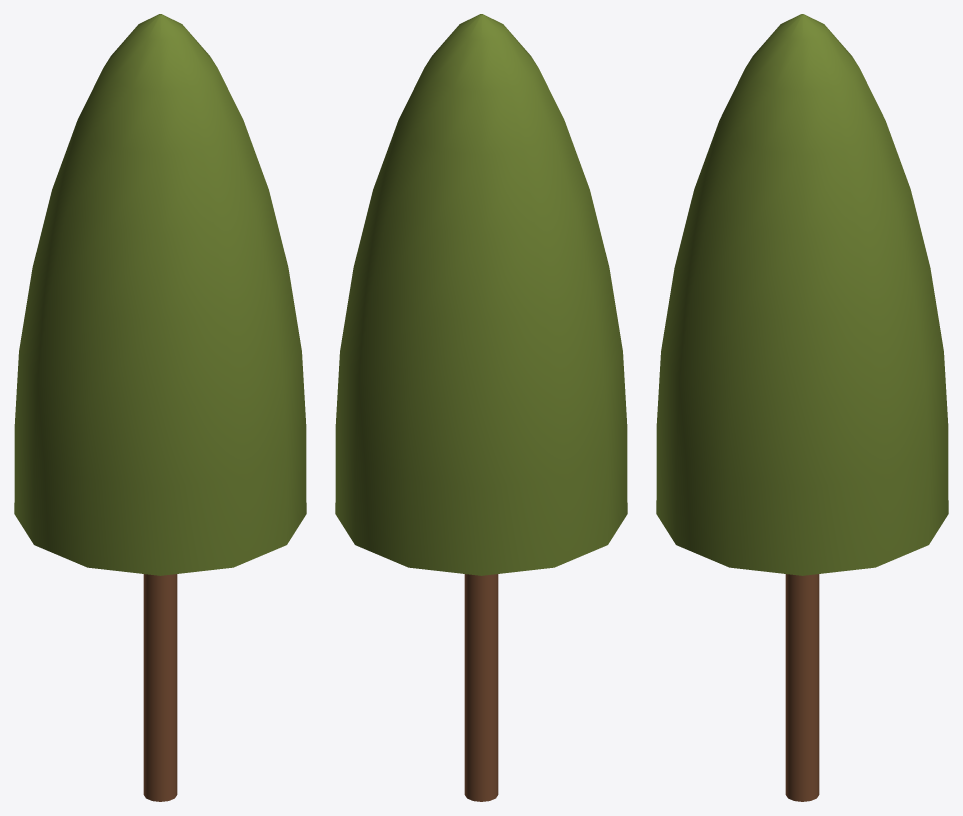
File: Red_Alder_Analytical_0.obj
The picture shows the model from 3 angles, left to right: view 1: azimuth 30°, elevation 25°; view 2: azimuth 150°, elevation 25°; view 3: azimuth 270°, elevation 25°; orthographic projection.
Parts seen in each view (by area): view 1: AnalyticalCrown, AnalyticalTrunk; view 2: AnalyticalCrown, AnalyticalTrunk; view 3: AnalyticalCrown, AnalyticalTrunk.
Part boxes in pixels (x1,y1,x2,y2): AnalyticalCrown: [14, 14, 306, 575]; AnalyticalTrunk: [143, 574, 177, 801]; AnalyticalCrown: [335, 14, 627, 575]; AnalyticalTrunk: [464, 574, 498, 801]; AnalyticalCrown: [656, 14, 948, 575]; AnalyticalTrunk: [785, 574, 819, 801].
Size of the model in its own units: 5.94 by 17.5 by 5.94.
